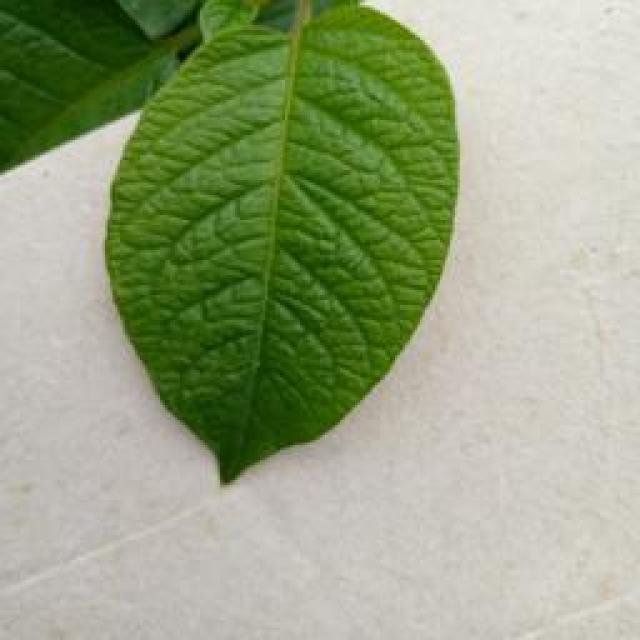healthy: (98, 0, 462, 488)
